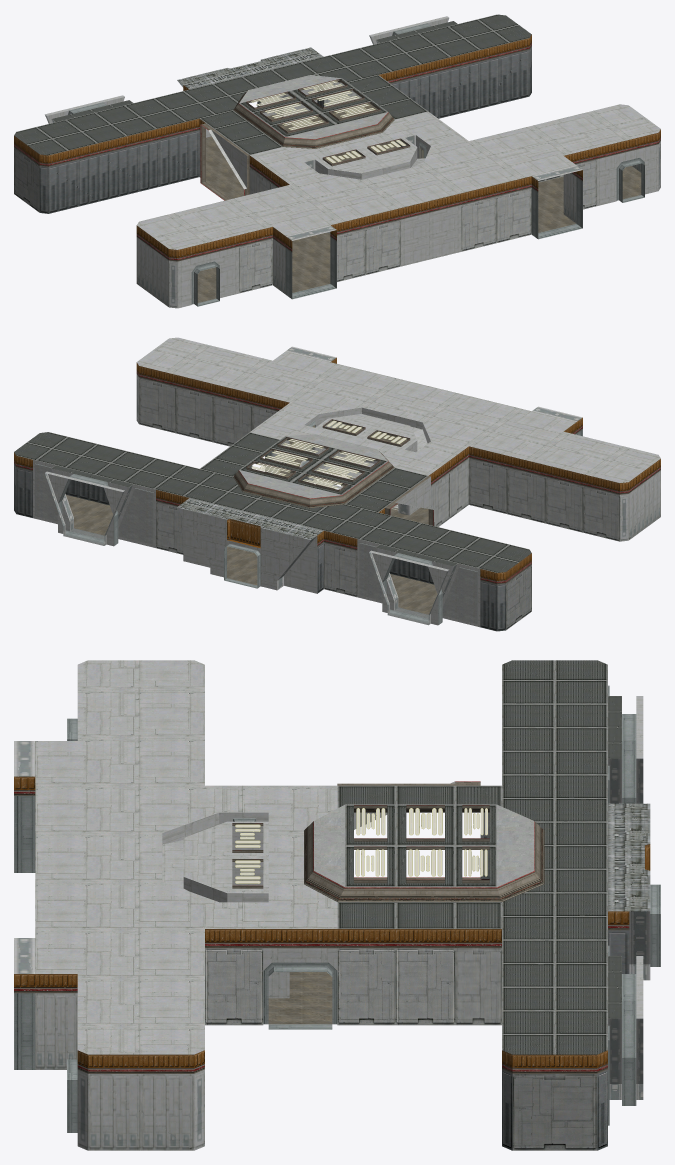
Rendered from mun_all_military_base_police_station_rebl_s01_r2_mainhall_mesh_r2.fbx.
The picture shows the model from 3 angles, top to bottom: view 1: azimuth 30°, elevation 25°; view 2: azimuth 150°, elevation 25°; view 3: azimuth 270°, elevation 25°; orthographic projection. The views are drawn at different scales.
Parts seen in each view (by area): view 1: mesh_node; view 2: mesh_node; view 3: mesh_node.
Part boxes in pixels (x1=…): mesh_node: x1=14, y1=14, x2=660, y2=308; mesh_node: x1=14, y1=337, x2=660, y2=631; mesh_node: x1=14, y1=660, x2=660, y2=1150.
Size of the model in its own units: 44 by 5.78 by 30.5.
